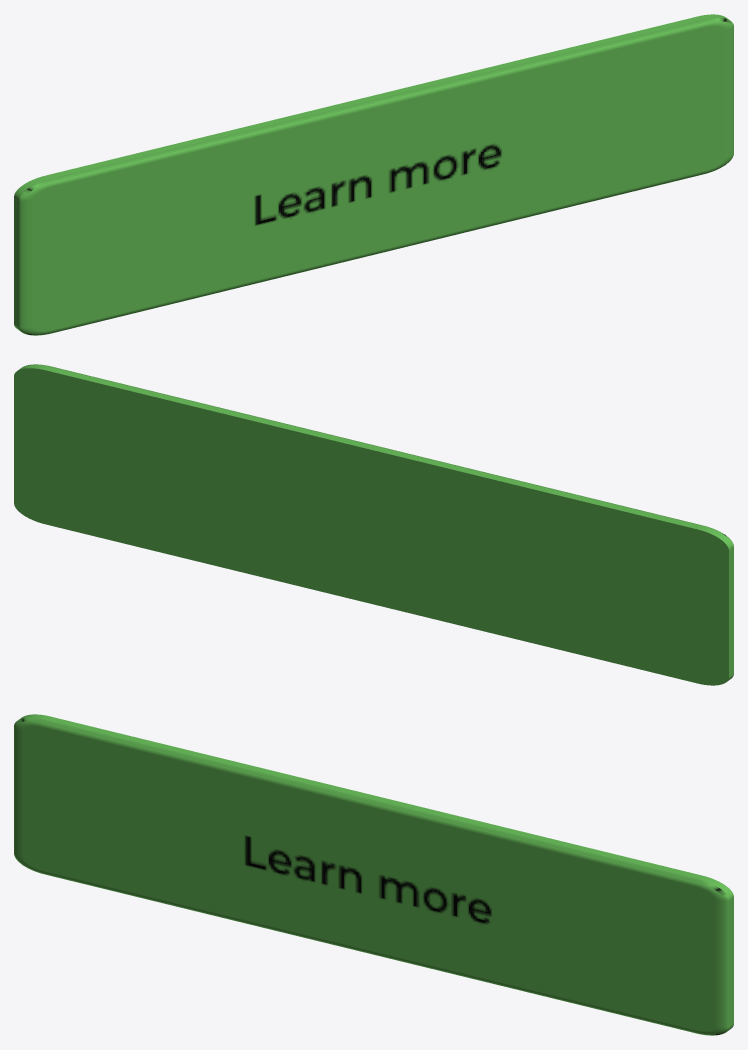
The model's file is BFinish.glb.
The picture shows the model from 3 angles, top to bottom: view 1: azimuth 30°, elevation 25°; view 2: azimuth 150°, elevation 25°; view 3: azimuth 330°, elevation 25°; orthographic projection.
Visible parts, largest first — view 1: ButtonNext.003; view 2: ButtonNext.003; view 3: ButtonNext.003.
Boxes of the visible parts, left/top/right/bottom form: ButtonNext.003: left=14, top=14, right=733, bottom=335; ButtonNext.003: left=14, top=364, right=733, bottom=685; ButtonNext.003: left=14, top=714, right=733, bottom=1035.
Bounding box in the file's own units: 1.39 × 0.286 × 0.0253.
1 material, 1 textured.
